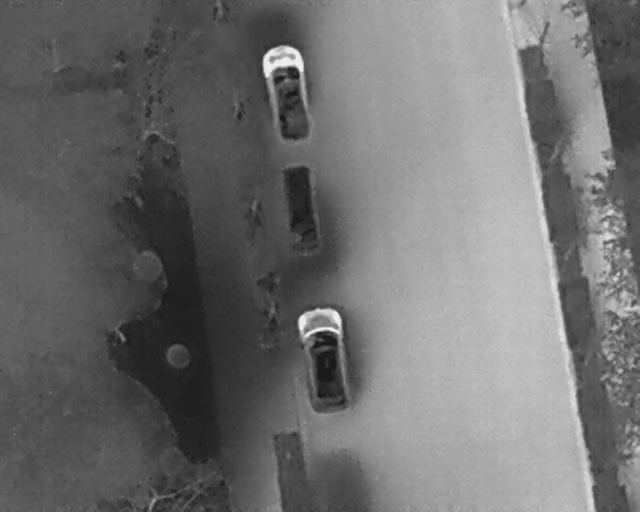Car: (292, 301, 357, 420), (256, 41, 319, 149), (273, 157, 329, 262)
